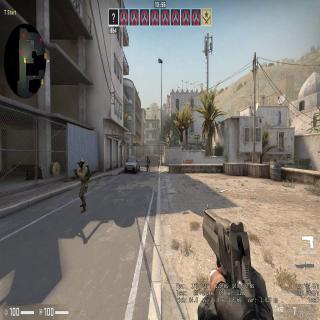CT-Body: (73, 154, 93, 214), (146, 154, 150, 172)
CT-Head: (77, 158, 85, 167), (146, 155, 148, 158)
